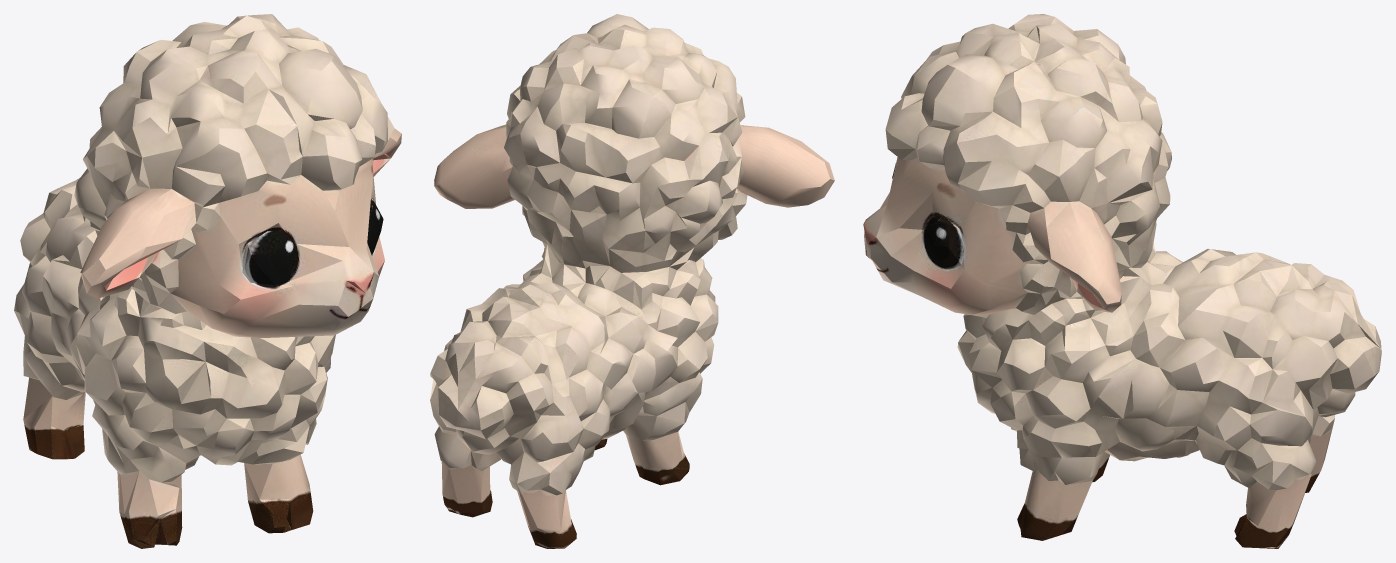
Rendered from toy-lamb.prefab.glb.
The picture shows the model from 3 angles, left to right: view 1: azimuth 30°, elevation 25°; view 2: azimuth 150°, elevation 25°; view 3: azimuth 270°, elevation 25°; orthographic projection. The views are drawn at different scales.
Parts seen in each view (by area): view 1: Prize_Batch0; view 2: Prize_Batch0; view 3: Prize_Batch0.
Part boxes in pixels (bbox=[...]): Prize_Batch0: bbox=[14, 14, 401, 548]; Prize_Batch0: bbox=[430, 14, 834, 548]; Prize_Batch0: bbox=[863, 14, 1381, 548].
Size of the model in its own units: 0.0268 by 0.0327 by 0.032.
Materials: 1 (1 with a texture image).
